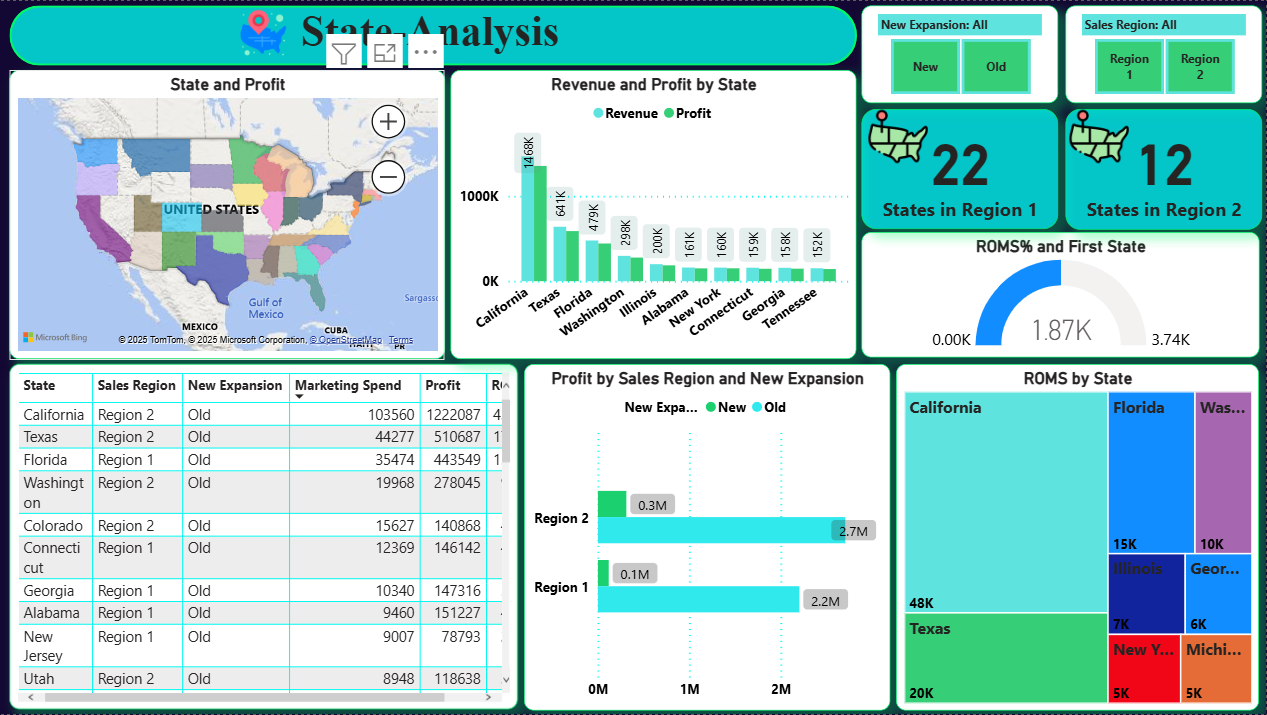

Layout of this report page (visuals, bound fields, positions):
{"tool":"powerbi","page":{"name":"State Analysis","canvas":[1280,720],"ordinal":1},"visuals":[{"type":"shape","box":[10.6,4.5,856.1,60.6],"z":0},{"type":"textbox","box":[88.3,0,695,63.3],"z":1000},{"type":"filledMap","fields":{"Category":["startups-expansion-modified.State"],"Series":["startups-expansion-modified.Profit"]},"box":[10,70,440,291.7],"z":2000},{"type":"tableEx","fields":{"Values":["startups-expansion-modified.State","startups-expansion-modified.Sales Region","startups-expansion-modified.New Expansion","Sum(startups-expansion-modified.Marketing Spend)","Sum(startups-expansion-modified.Profit)","Sum(startups-expansion-modified.ROMS)"]},"box":[10,366.7,513.3,348.3],"z":3000},{"type":"clusteredColumnChart","fields":{"Category":["startups-expansion-modified.State"],"Y":["Sum(startups-expansion-modified.Revenue)","Sum(startups-expansion-modified.Profit)"]},"box":[456.7,70,410,291.7],"z":4000},{"type":"gauge","fields":{"Y":["Sum(startups-expansion-modified.ROMS%)"]},"box":[871.7,233.3,401.7,126.7],"z":5000},{"type":"slicer","title":"New Expansion","fields":{"Values":["startups-expansion-modified.New Expansion"]},"box":[871.2,4.5,198.5,98.5],"z":6000},{"type":"slicer","title":"New Expansion","fields":{"Values":["startups-expansion-modified.Sales Region"]},"box":[1077.3,4.5,198.5,98.5],"z":7000},{"type":"clusteredBarChart","fields":{"Category":["startups-expansion-modified.Sales Region"],"Y":["Sum(startups-expansion-modified.Profit)"],"Series":["startups-expansion-modified.New Expansion"]},"box":[530,366.7,370,350],"z":8000},{"type":"treemap","fields":{"Group":["startups-expansion-modified.State"],"Values":["Sum(startups-expansion-modified.ROMS)"]},"box":[906.7,366.7,366.7,350],"z":9000},{"type":"image","box":[230,0,73.3,63.3],"z":10000},{"type":"card","fields":{"Values":["startups-expansion-modified.States in Region 1"]},"box":[871.7,108.3,198.3,121],"z":11000},{"type":"card","fields":{"Values":["startups-expansion-modified.States in Region 2"]},"box":[1076.7,108.3,198.3,121.7],"z":12000},{"type":"image","box":[868.3,101.7,80,70],"z":13000},{"type":"image","box":[1071.7,101.7,80,70],"z":14000}]}

Visuals, with their boxes in screenshot pixels (x1, y1, x2, y2):
shape: bbox=[17, 8, 853, 67]
textbox: bbox=[93, 3, 771, 65]
filledMap - startups-expansion-modified.State x startups-expansion-modified.Profit: bbox=[16, 72, 446, 356]
tableEx - startups-expansion-modified.State x startups-expansion-modified.Sales Region: bbox=[16, 361, 517, 701]
clusteredColumnChart - startups-expansion-modified.State x Sum(startups-expansion-modified.Revenue): bbox=[452, 72, 853, 356]
gauge - Sum(startups-expansion-modified.ROMS%): bbox=[858, 231, 1250, 355]
"New Expansion" slicer: bbox=[857, 8, 1051, 104]
"New Expansion" slicer: bbox=[1058, 8, 1252, 104]
clusteredBarChart - startups-expansion-modified.Sales Region x Sum(startups-expansion-modified.Profit): bbox=[524, 361, 885, 703]
treemap - startups-expansion-modified.State x Sum(startups-expansion-modified.ROMS): bbox=[892, 361, 1250, 703]
image: bbox=[231, 3, 303, 65]
card - startups-expansion-modified.States in Region 1: bbox=[858, 109, 1051, 227]
card - startups-expansion-modified.States in Region 2: bbox=[1058, 109, 1251, 228]
image: bbox=[854, 103, 932, 171]
image: bbox=[1053, 103, 1131, 171]
